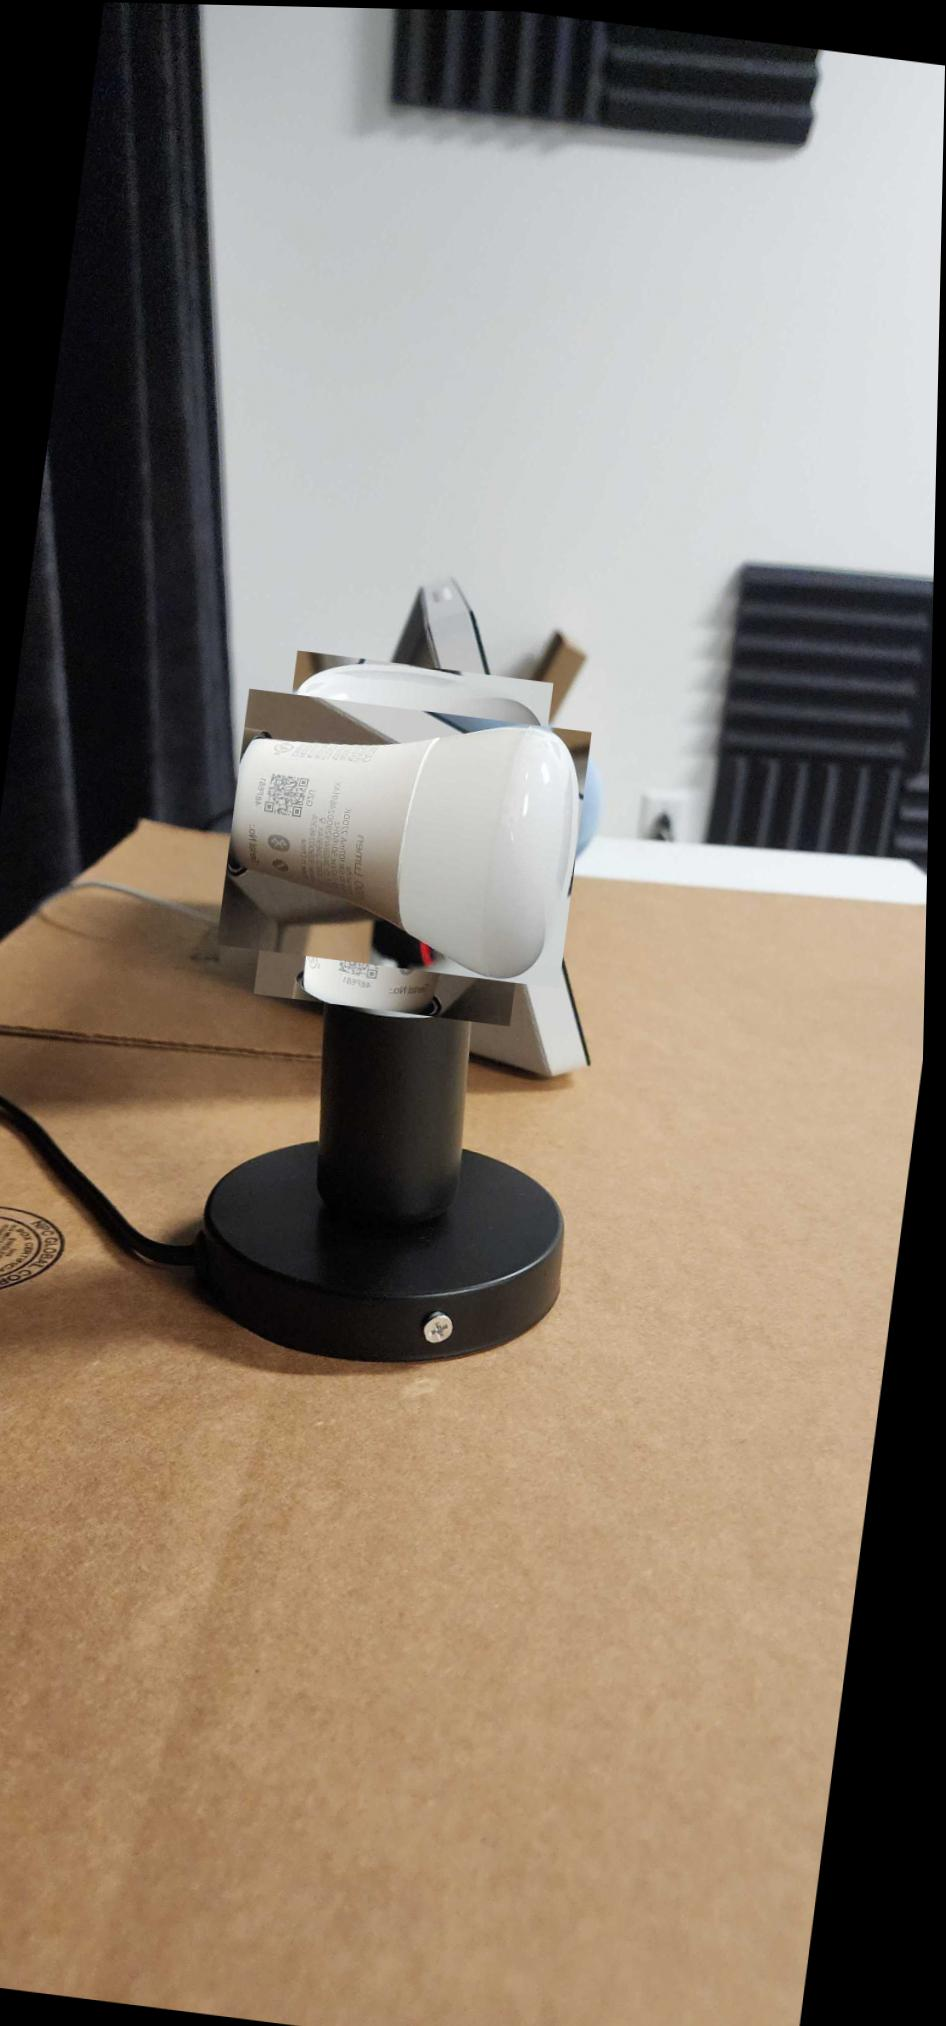Fan: (239, 667, 576, 1005)
